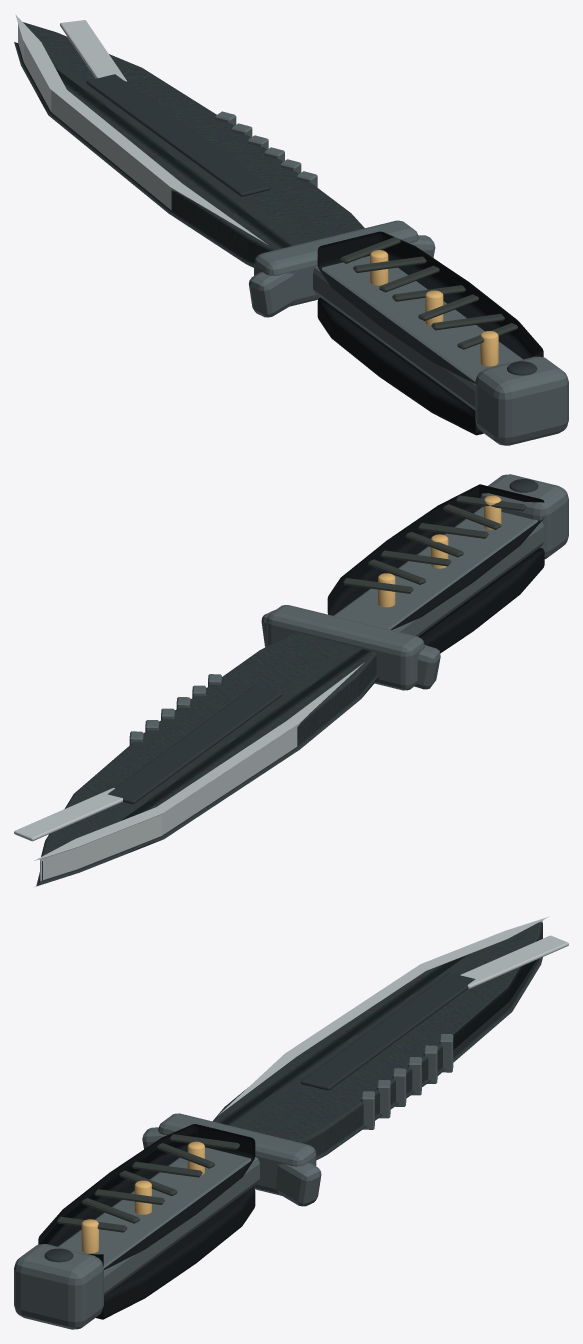
File: pass65-field-knife-fp-lod0.glb
The picture shows the model from 3 angles, top to bottom: view 1: azimuth 30°, elevation 25°; view 2: azimuth 150°, elevation 25°; view 3: azimuth 330°, elevation 25°; orthographic projection. The views are drawn at different scales.
Visible parts, largest first — view 1: FieldKnife_Blade_fp-lod0_Mesh, Cube_001.003, FieldKnife_HandleScale_1, field-knife-cutting-edge, Cube_001.024, FieldKnife_HandleScale_-1, field-knife-fuller, Cube_001, Cube_001.002, Cube, Cylinder_001.001, Cube_001.015 (+1 smaller); view 2: FieldKnife_Blade_fp-lod0_Mesh, field-knife-cutting-edge, Cube_001.003, FieldKnife_HandleScale_1, Cube_001, field-knife-fuller, FieldKnife_HandleScale_-1, Cube_001.024, Cube, Cube_001.002, Cube_001.009, Cube_001.013 (+1 smaller); view 3: FieldKnife_Blade_fp-lod0_Mesh, Cube_001.003, FieldKnife_HandleScale_1, Cube_001.024, FieldKnife_HandleScale_-1, field-knife-fuller, field-knife-cutting-edge, Cube_001, Cube, Cube_001.001, Cylinder_001.001, Cube_001.009 (+2 smaller).
Boxes of the visible parts, x1,y1,x2,y2 form: FieldKnife_Blade_fp-lod0_Mesh: (14,22,364,267); Cube_001.003: (313,256,522,410); FieldKnife_HandleScale_1: (317,231,543,383); field-knife-cutting-edge: (15,14,267,244); Cube_001.024: (475,356,568,445); FieldKnife_HandleScale_-1: (317,297,483,435); field-knife-fuller: (86,74,270,196); Cube_001: (254,220,418,306); Cube_001.002: (249,272,295,317); Cube: (60,20,126,81); Cylinder_001.001: (480,331,498,366); Cube_001.015: (431,313,504,330); FieldKnife_Blade_fp-lod0_Mesh: (36,632,378,886); field-knife-cutting-edge: (33,662,364,887); Cube_001.003: (333,507,544,636); FieldKnife_HandleScale_1: (327,484,544,629); Cube_001: (266,605,424,690); field-knife-fuller: (108,686,282,803); FieldKnife_HandleScale_-1: (418,548,544,653); Cube_001.024: (480,474,568,558); Cube: (14,788,122,841); Cube_001.002: (414,645,440,689); Cube_001.009: (380,550,451,566); Cube_001.013: (418,523,488,538); FieldKnife_Blade_fp-lod0_Mesh: (212,922,542,1160); Cube_001.003: (58,1147,259,1295); FieldKnife_HandleScale_1: (38,1124,255,1269); Cube_001.024: (14,1244,103,1329); FieldKnife_HandleScale_-1: (96,1187,255,1319); field-knife-fuller: (300,972,475,1090); field-knife-cutting-edge: (218,916,549,1115); Cube_001: (158,1113,316,1195); Cube: (460,935,568,988); Cube_001.001: (276,1163,321,1206); Cylinder_001.001: (81,1219,98,1253); Cube_001.009: (131,1161,202,1177).
Size of the model in its own units: 0.4161 by 0.19 by 2.09.
7 materials, 2 textured.
